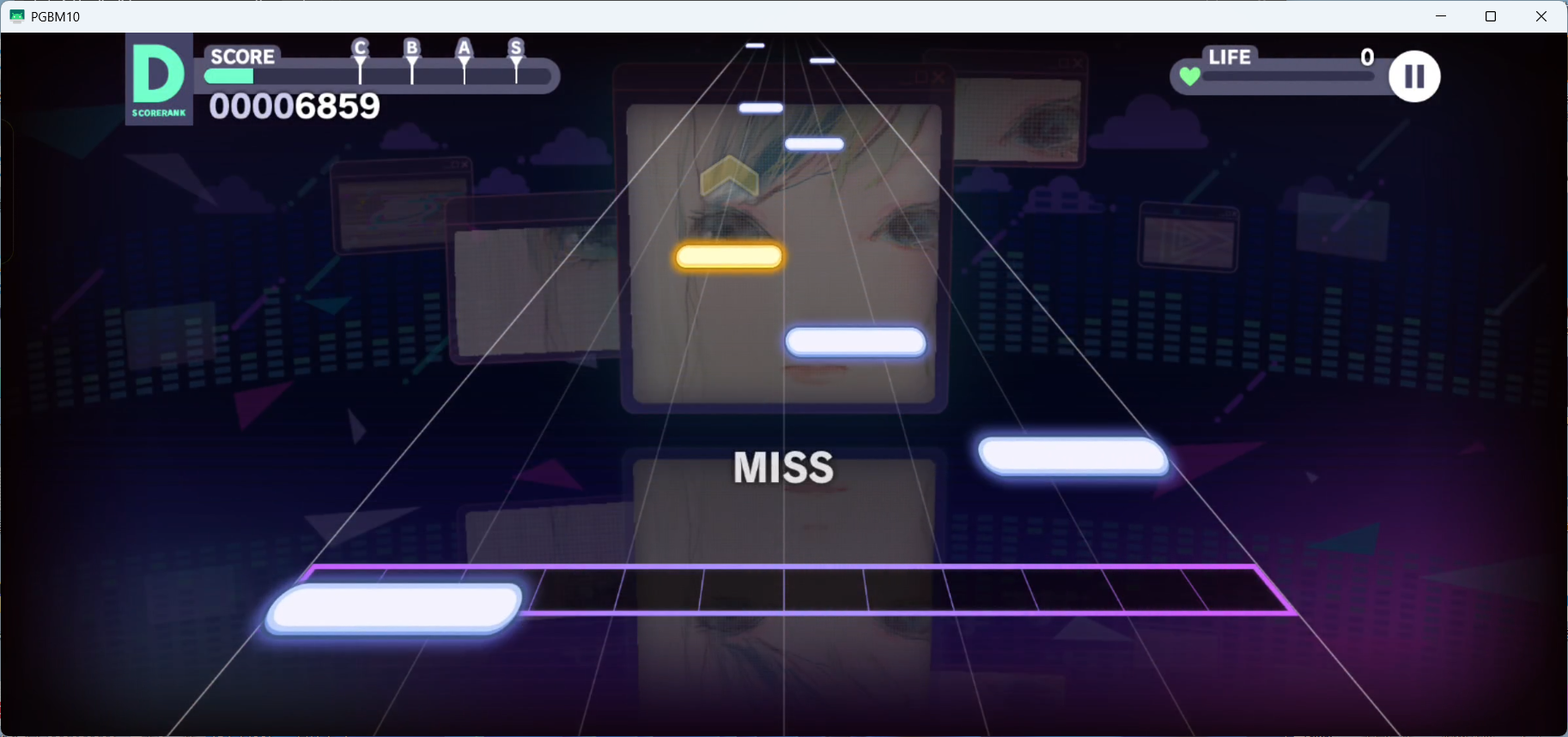flick: (700, 155, 759, 202)
tap: (262, 580, 525, 636), (978, 434, 1170, 476), (785, 327, 927, 359), (675, 245, 782, 269), (785, 138, 844, 152), (738, 103, 784, 114), (810, 57, 836, 63), (745, 43, 764, 48)
